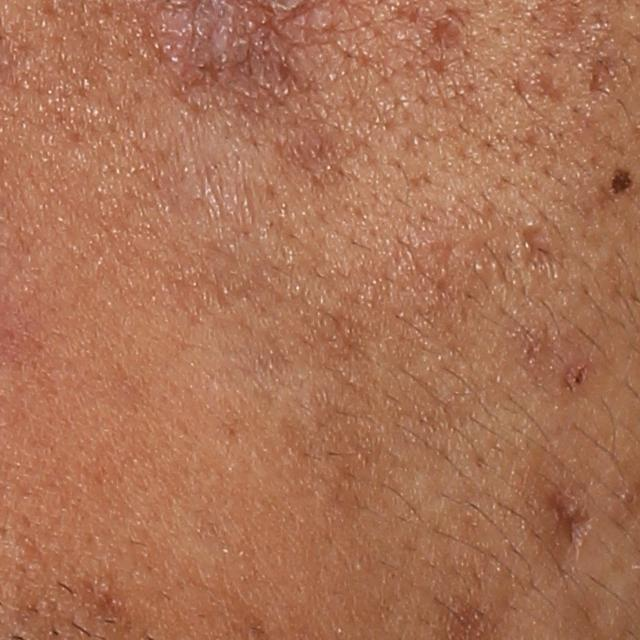atrophic_scar: (543, 495, 590, 563), (529, 59, 571, 103), (422, 13, 467, 52)
nevus: (608, 167, 638, 196)
